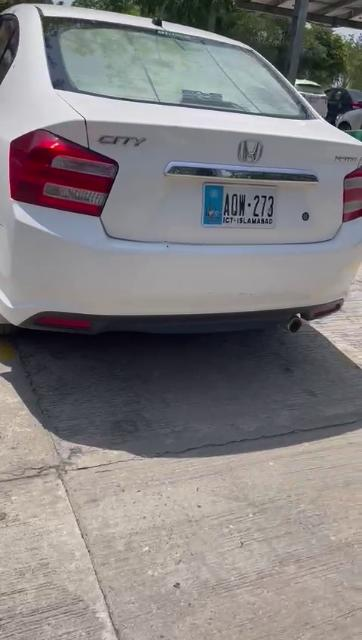plate: (200, 177, 284, 229)
